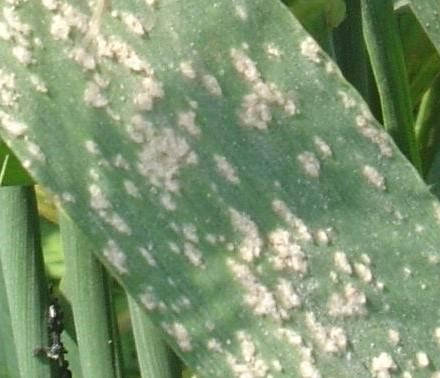Powdery Mildew: (84, 62, 392, 352)
